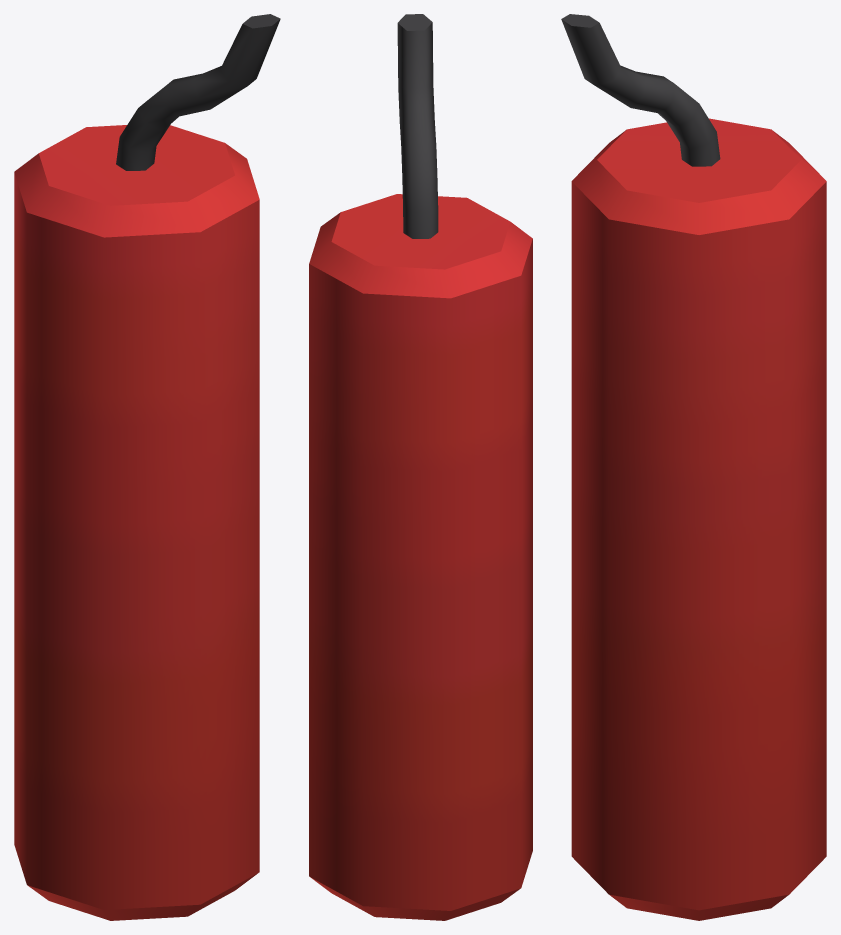
File: Grenade_Dynamite.fbx
3 renders of one model, left to right at view 1: azimuth 30°, elevation 25°; view 2: azimuth 150°, elevation 25°; view 3: azimuth 270°, elevation 25°, orthographic. The views are drawn at different scales.
Visible parts, largest first — view 1: Dynamite01; view 2: Dynamite01; view 3: Dynamite01.
Part boxes in pixels (x1,y1,x2,y2): Dynamite01: [14, 14, 280, 920]; Dynamite01: [309, 14, 532, 920]; Dynamite01: [561, 14, 826, 920].
Bounding box in the file's own units: 0.1376 × 0.5301 × 0.1432.
